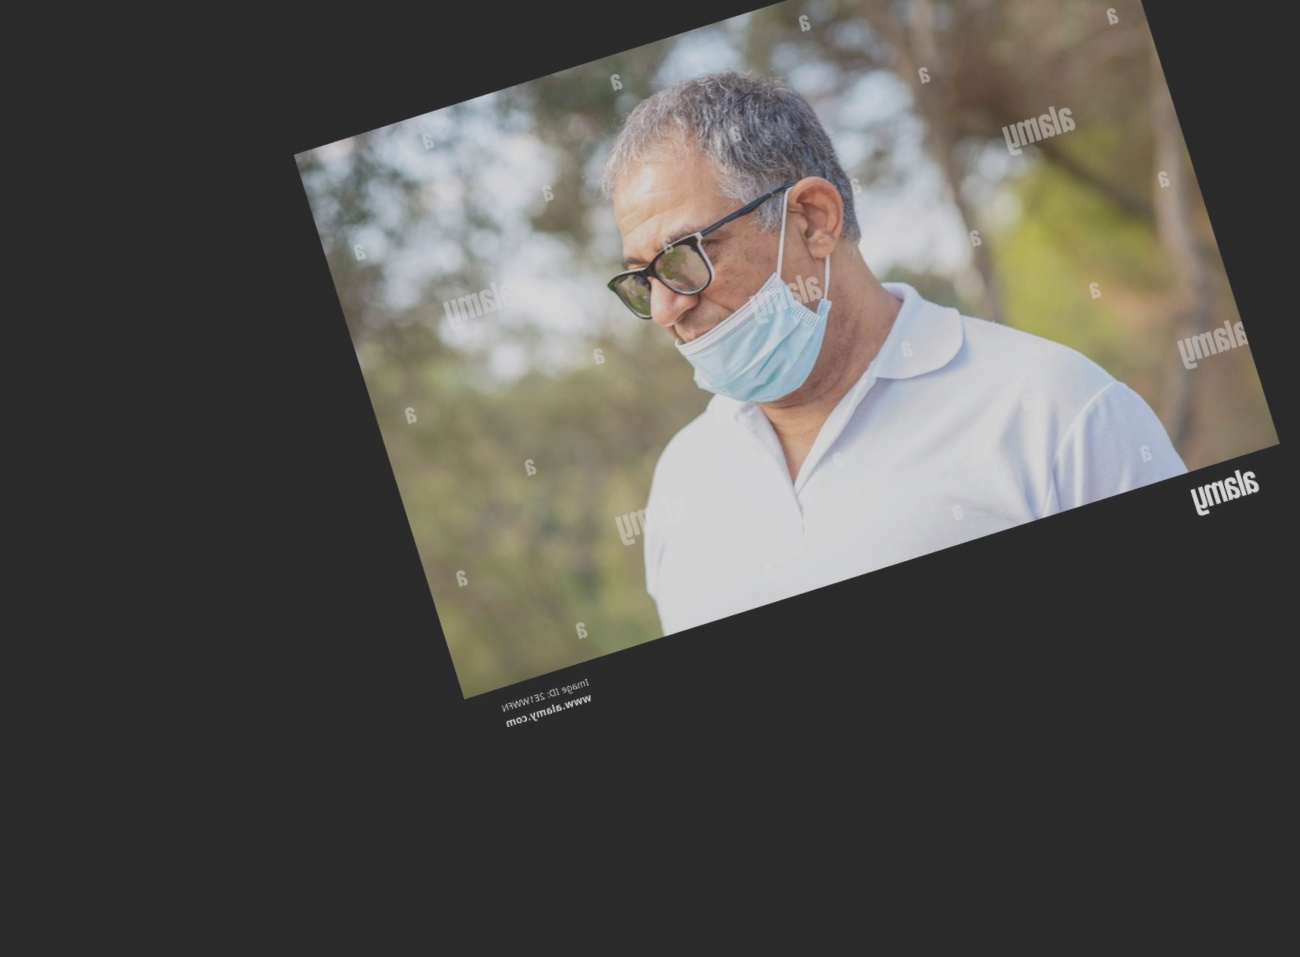mask_weared_incorrect: (601, 89, 860, 414)
